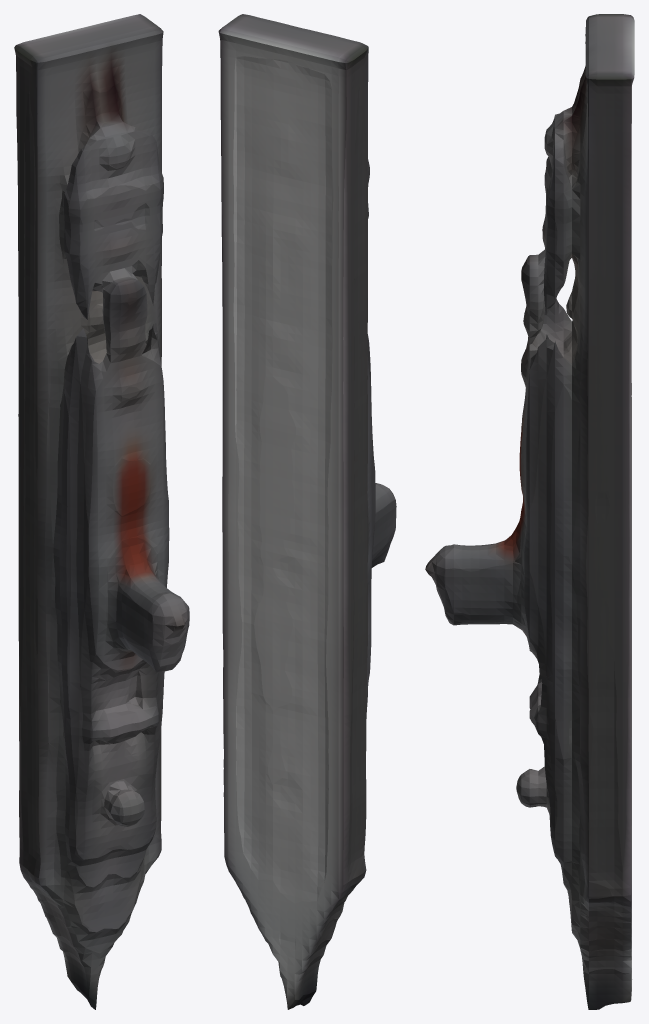
Rendered from A really big battleship_1749676232.obj.
3 renders of one model, left to right at view 1: azimuth 30°, elevation 25°; view 2: azimuth 150°, elevation 25°; view 3: azimuth 270°, elevation 25°, orthographic.
Bounding box in the file's own units: 0.2782 × 1.96 × 0.3846.
